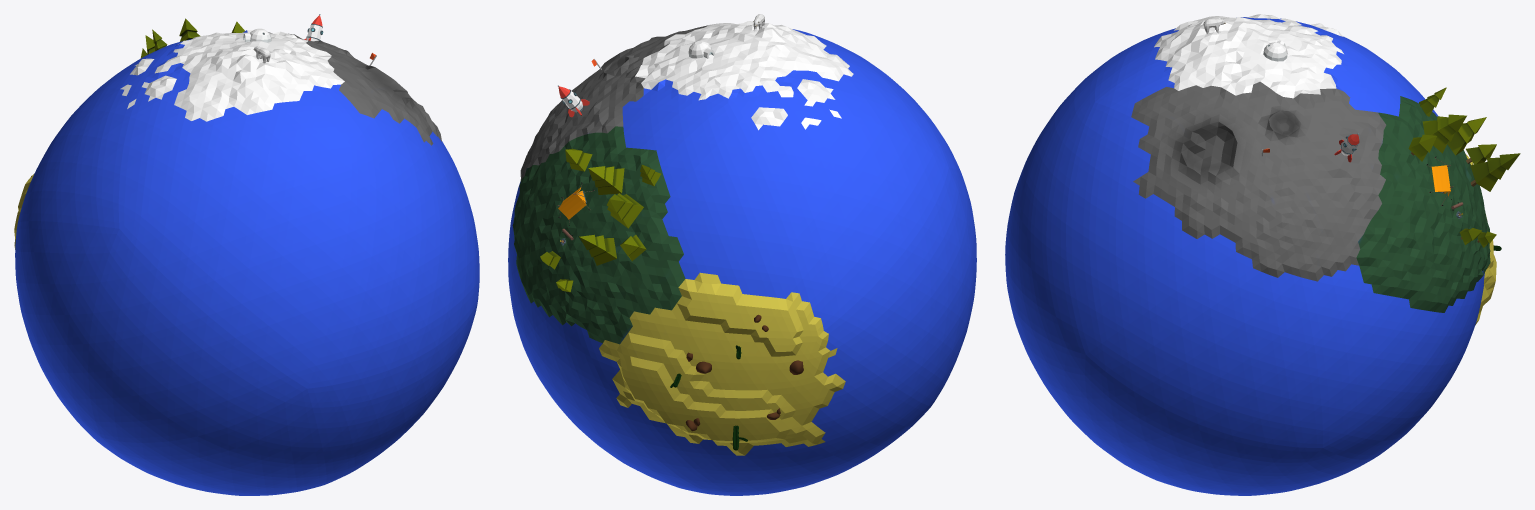
Rendered from planet-v2.4.obj.
3 renders of one model, left to right at view 1: azimuth 30°, elevation 25°; view 2: azimuth 150°, elevation 25°; view 3: azimuth 270°, elevation 25°, orthographic. The views are drawn at different scales.
Visible parts, largest first — view 1: Icosphere_Icosphere_texture, forest; view 2: Icosphere_Icosphere_texture, forest; view 3: Icosphere_Icosphere_texture, forest.
Boxes of the visible parts, left/top/right/bottom form: Icosphere_Icosphere_texture: left=14, top=30, right=479, bottom=495; forest: left=140, top=18, right=244, bottom=58; Icosphere_Icosphere_texture: left=508, top=21, right=976, bottom=495; forest: left=540, top=148, right=660, bottom=292; Icosphere_Icosphere_texture: left=1005, top=14, right=1496, bottom=495; forest: left=1408, top=87, right=1520, bottom=247.
Size of the model in its own units: 7.19 by 7.55 by 7.76.
20 materials, 4 textured.
